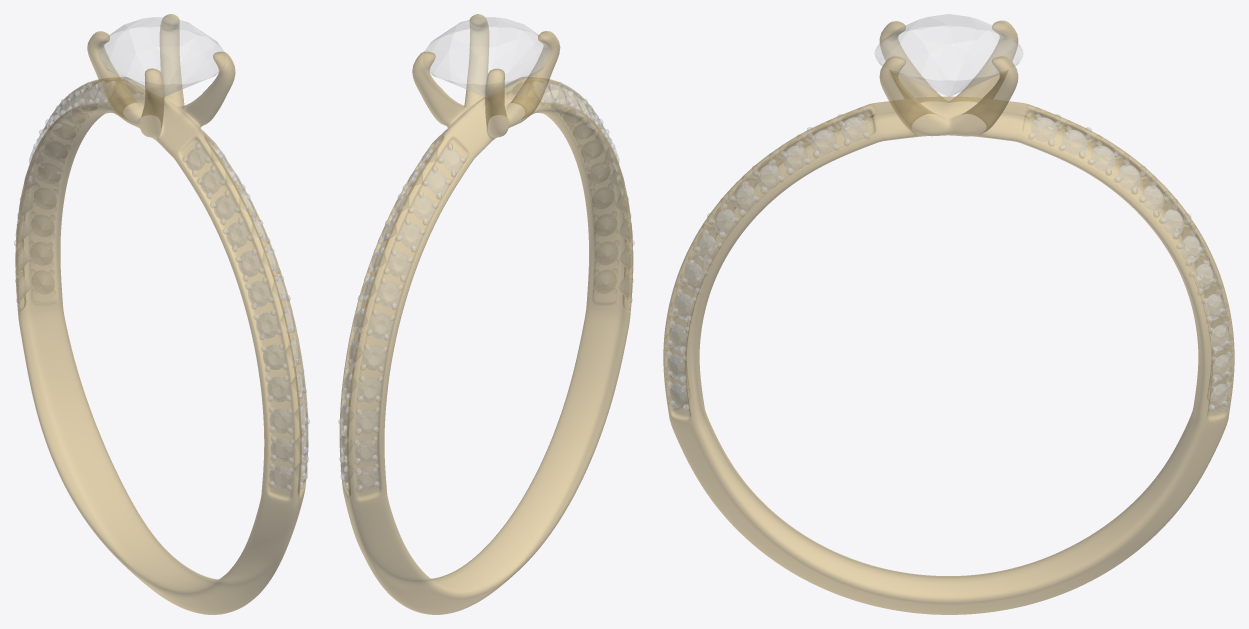
3 renders of one model, left to right at view 1: azimuth 30°, elevation 25°; view 2: azimuth 150°, elevation 25°; view 3: azimuth 270°, elevation 25°, orthographic. The views are drawn at different scales.
Visible parts, largest first — view 1: Ring, Diamond; view 2: Ring, Diamond; view 3: Ring, Diamond.
Boxes of the visible parts, <box> form: Ring: <box>15,14,308,614</box>; Diamond: <box>14,17,309,491</box>; Ring: <box>339,14,633,614</box>; Diamond: <box>338,17,634,492</box>; Ring: <box>663,20,1234,614</box>; Diamond: <box>665,14,1232,411</box>.
Size of the model in its own units: 0.5434 by 2.66 by 2.35.
